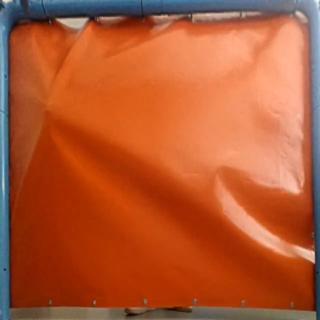Hit-hRxx: (40, 105, 57, 118)
